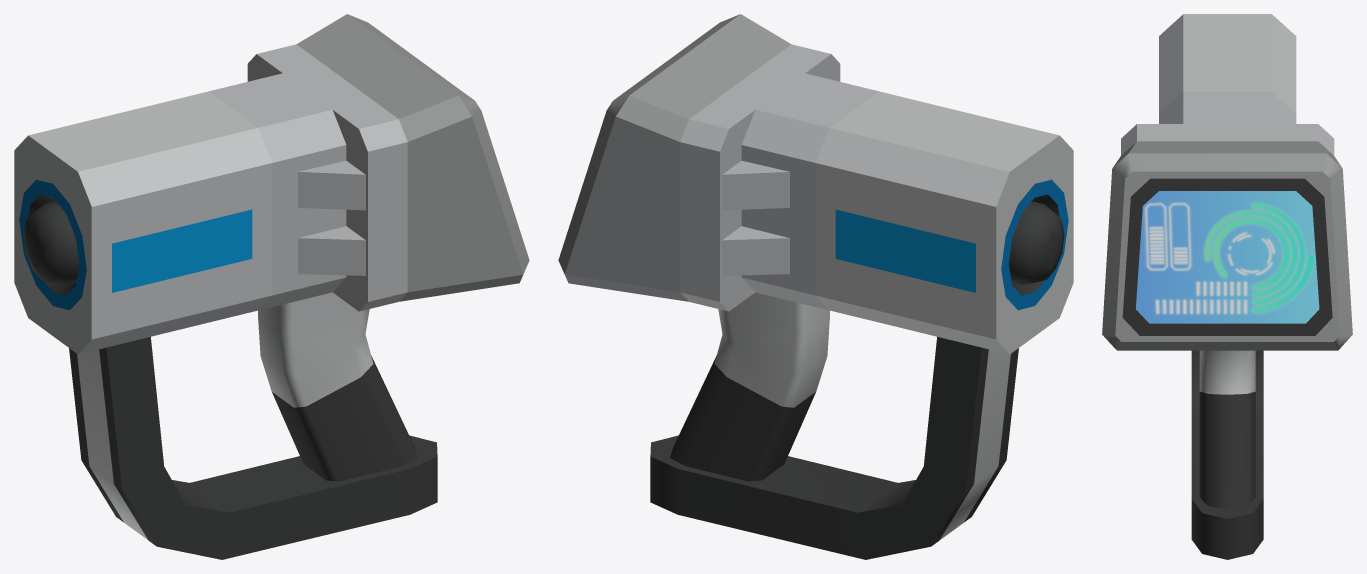
The model's file is Analyzer_002.fbx.
3 views of the same model, side by side, from view 1: azimuth 30°, elevation 25°; view 2: azimuth 150°, elevation 25°; view 3: azimuth 270°, elevation 25° (orthographic). The views are drawn at different scales.
Visible parts, largest first — view 1: Analyzer_002; view 2: Analyzer_002; view 3: Analyzer_002.
Boxes of the visible parts, left/top/right/bottom form: Analyzer_002: left=14, top=14, right=529, bottom=559; Analyzer_002: left=558, top=14, right=1073, bottom=559; Analyzer_002: left=1102, top=14, right=1352, bottom=559.
Bounding box in the file's own units: 42.72 × 24.19 × 41.71.
